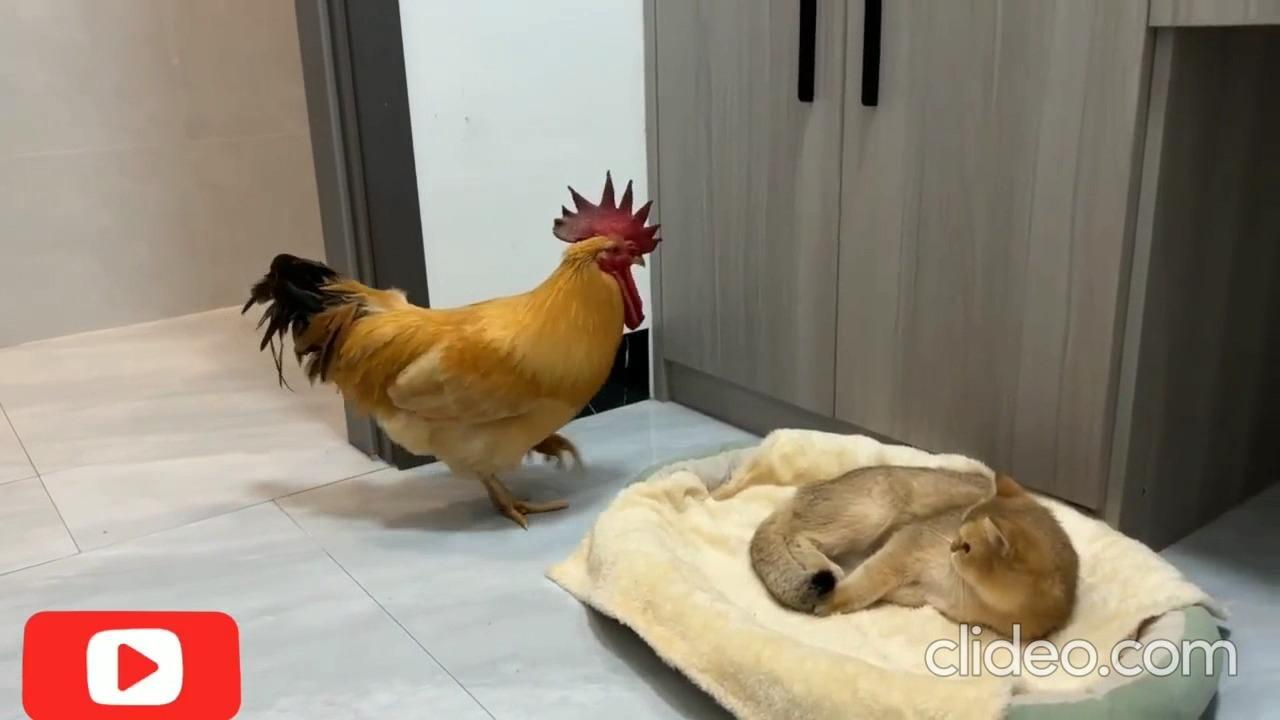Normal: (270, 176, 656, 470)
